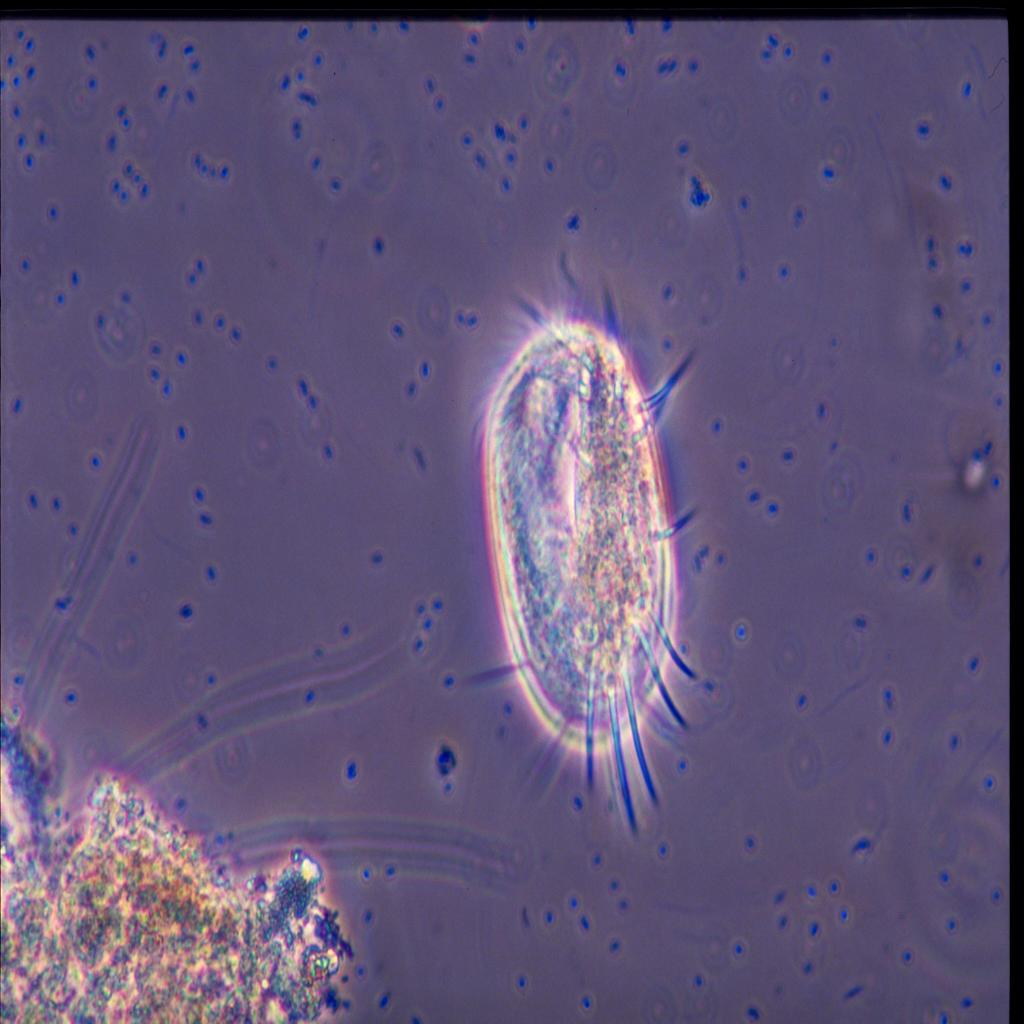Euplotes: (442, 270, 732, 828)
